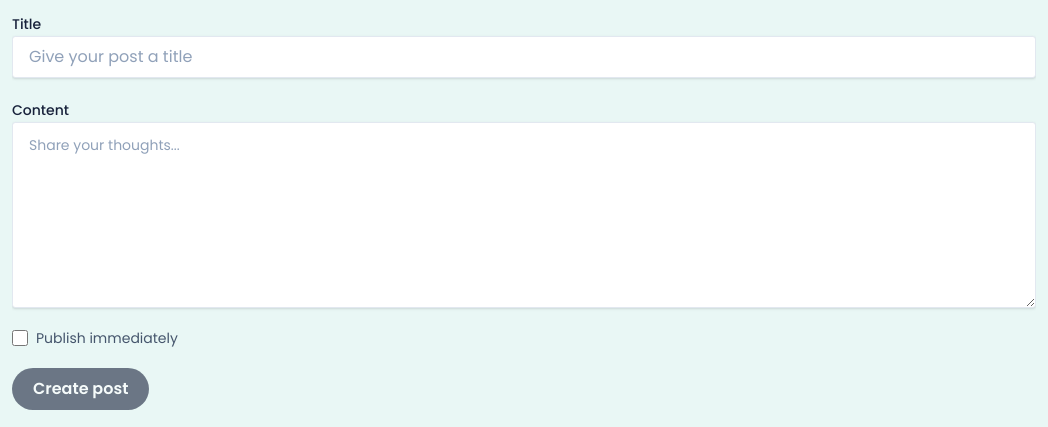
PostForm › disables submit until both title and content are provided
The width and height of the screenshot is (1048, 427).
Check: the button "Create post" is disabled, box [12,368,149,410]
Type "Launch plan" into the field labelled "Title" at (524, 57), box [12,36,1036,78]
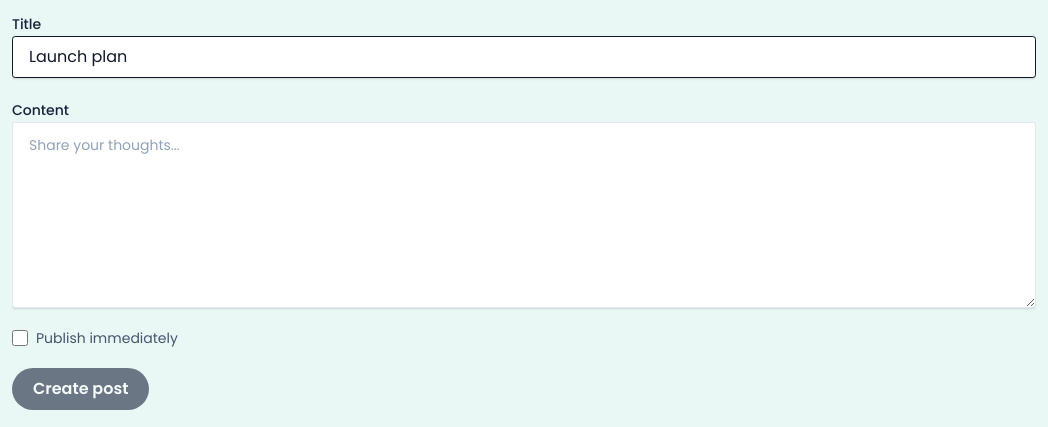
Check: the button "Create post" is disabled, box [12,368,149,410]
Type "Details about the launch plan" into the text box labelled "Content" at (524, 215), box [12,122,1036,308]
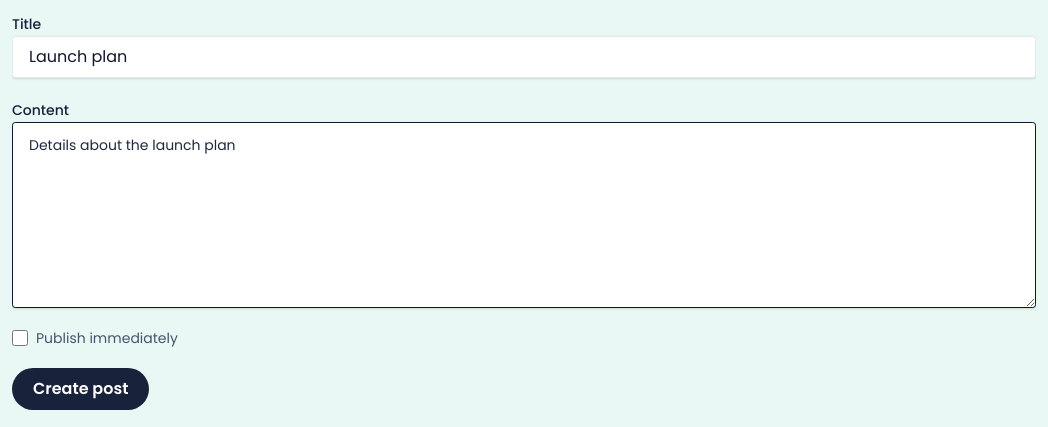
Check: the button "Create post" is enabled, box [12,368,149,410]
